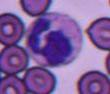N: (25, 11, 82, 66)
